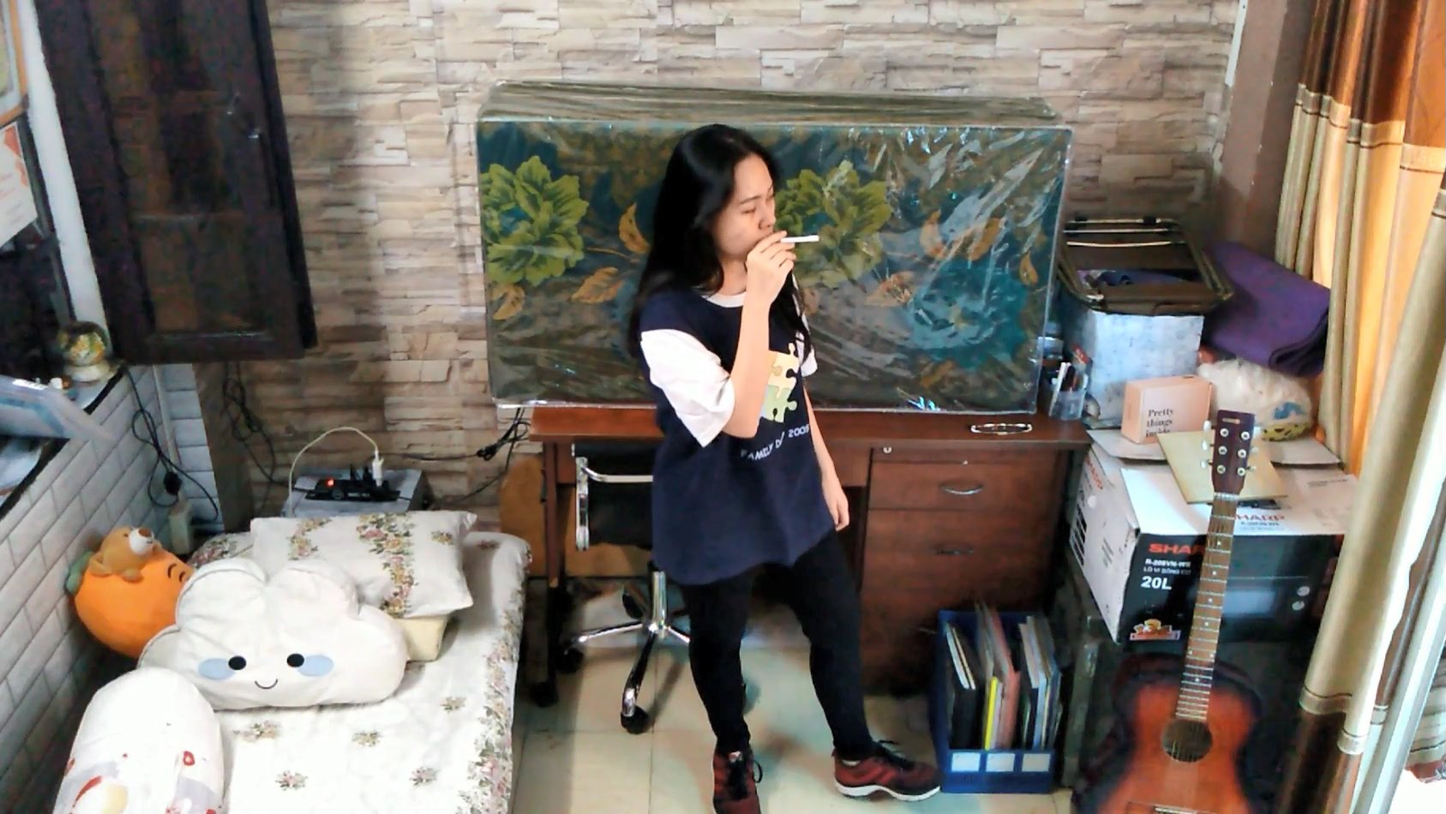cigarette: (774, 229, 828, 248)
person: (607, 111, 955, 814)
